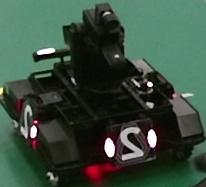armor_2: (104, 129, 157, 157)
